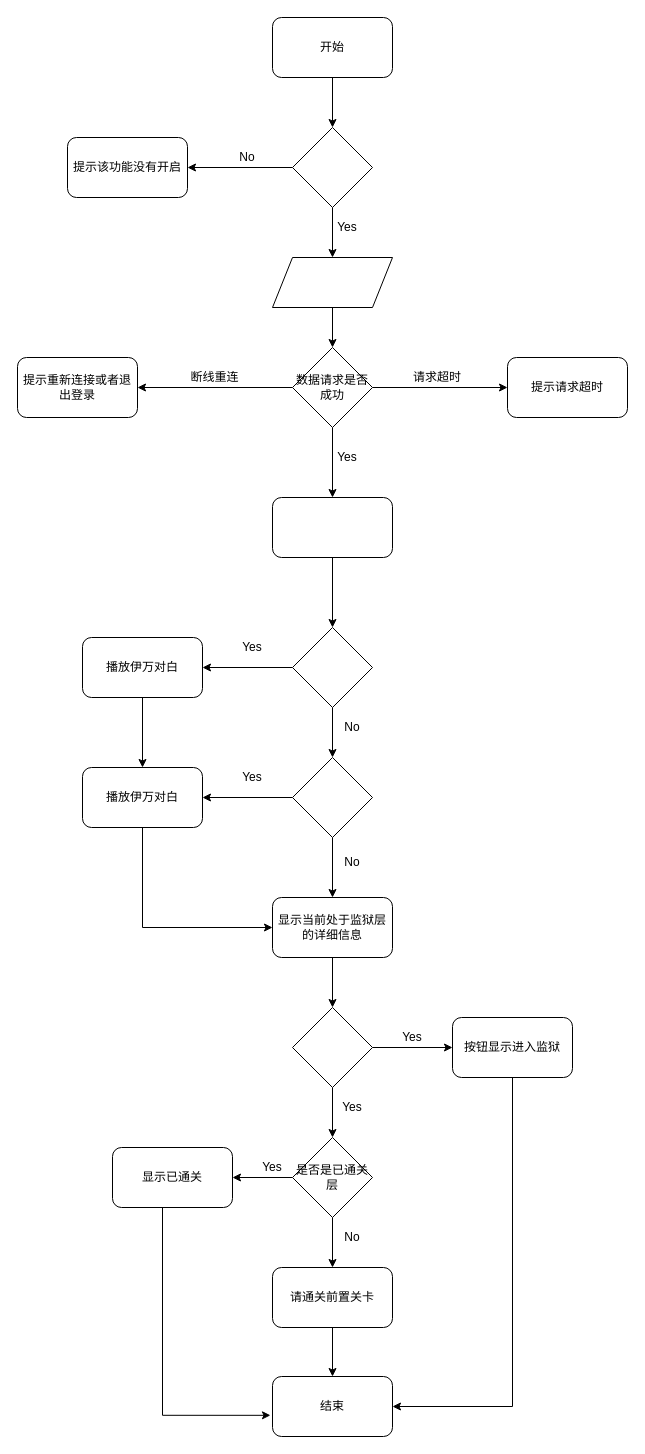
Image size: 645x1454. Some labels were removed from this diagram. Each missing label, with the centre of its shape:
判断是否当前层: the point at 332,1047
打开主界面，并根据拿到的数据初始化界面UI: the point at 332,527
是否是新CD进入: the point at 332,797
是否是第一次进入: the point at 332,667
该功能是否开启: the point at 332,167
请求主页数据: the point at 332,282
